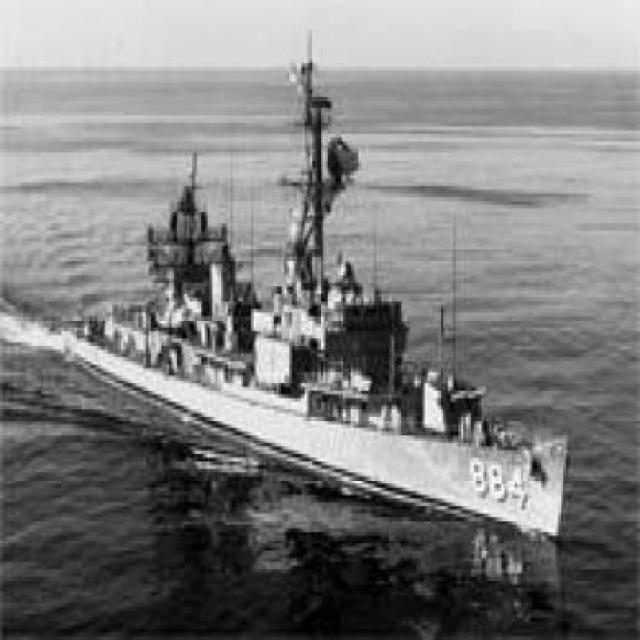warship2: (57, 38, 573, 552)
